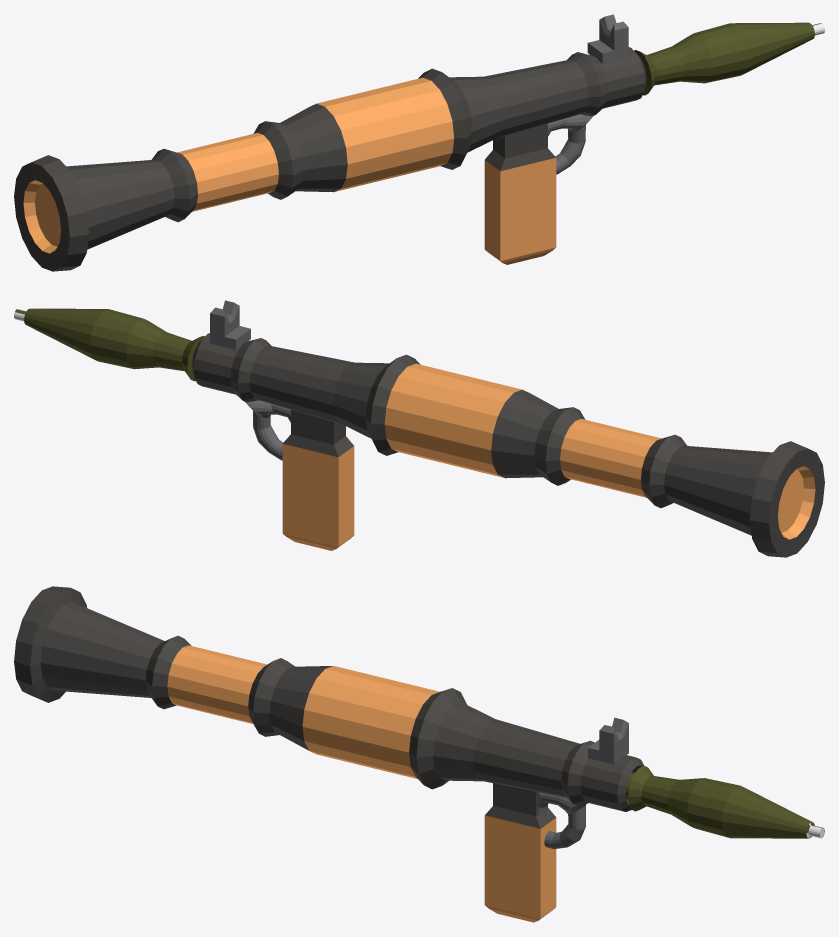
File: Rpg.fbx
3 views of the same model, one above another, from view 1: azimuth 30°, elevation 25°; view 2: azimuth 150°, elevation 25°; view 3: azimuth 330°, elevation 25° (orthographic).
Parts seen in each view (by area): view 1: RocketBank, Holder, Rocket, Scope, Trigger; view 2: RocketBank, Holder, Rocket, Scope, Trigger; view 3: RocketBank, Holder, Rocket, Trigger, Scope.
Boxes of the visible parts, x1=… form: RocketBank: x1=14, y1=47, x2=646, y2=271; Holder: x1=484, y1=123, x2=556, y2=264; Rocket: x1=634, y1=22, x2=824, y2=95; Scope: x1=587, y1=14, x2=628, y2=63; Trigger: x1=548, y1=114, x2=593, y2=174; RocketBank: x1=192, y1=333, x2=824, y2=557; Holder: x1=282, y1=409, x2=354, y2=550; Rocket: x1=14, y1=308, x2=204, y2=381; Scope: x1=210, y1=300, x2=250, y2=349; Trigger: x1=245, y1=400, x2=290, y2=460; RocketBank: x1=14, y1=586, x2=644, y2=811; Holder: x1=484, y1=783, x2=556, y2=922; Rocket: x1=625, y1=766, x2=824, y2=838; Trigger: x1=537, y1=792, x2=586, y2=849; Scope: x1=588, y1=717, x2=628, y2=764.
Bounding box in the file's own units: 320 × 84.3 × 41.9.
